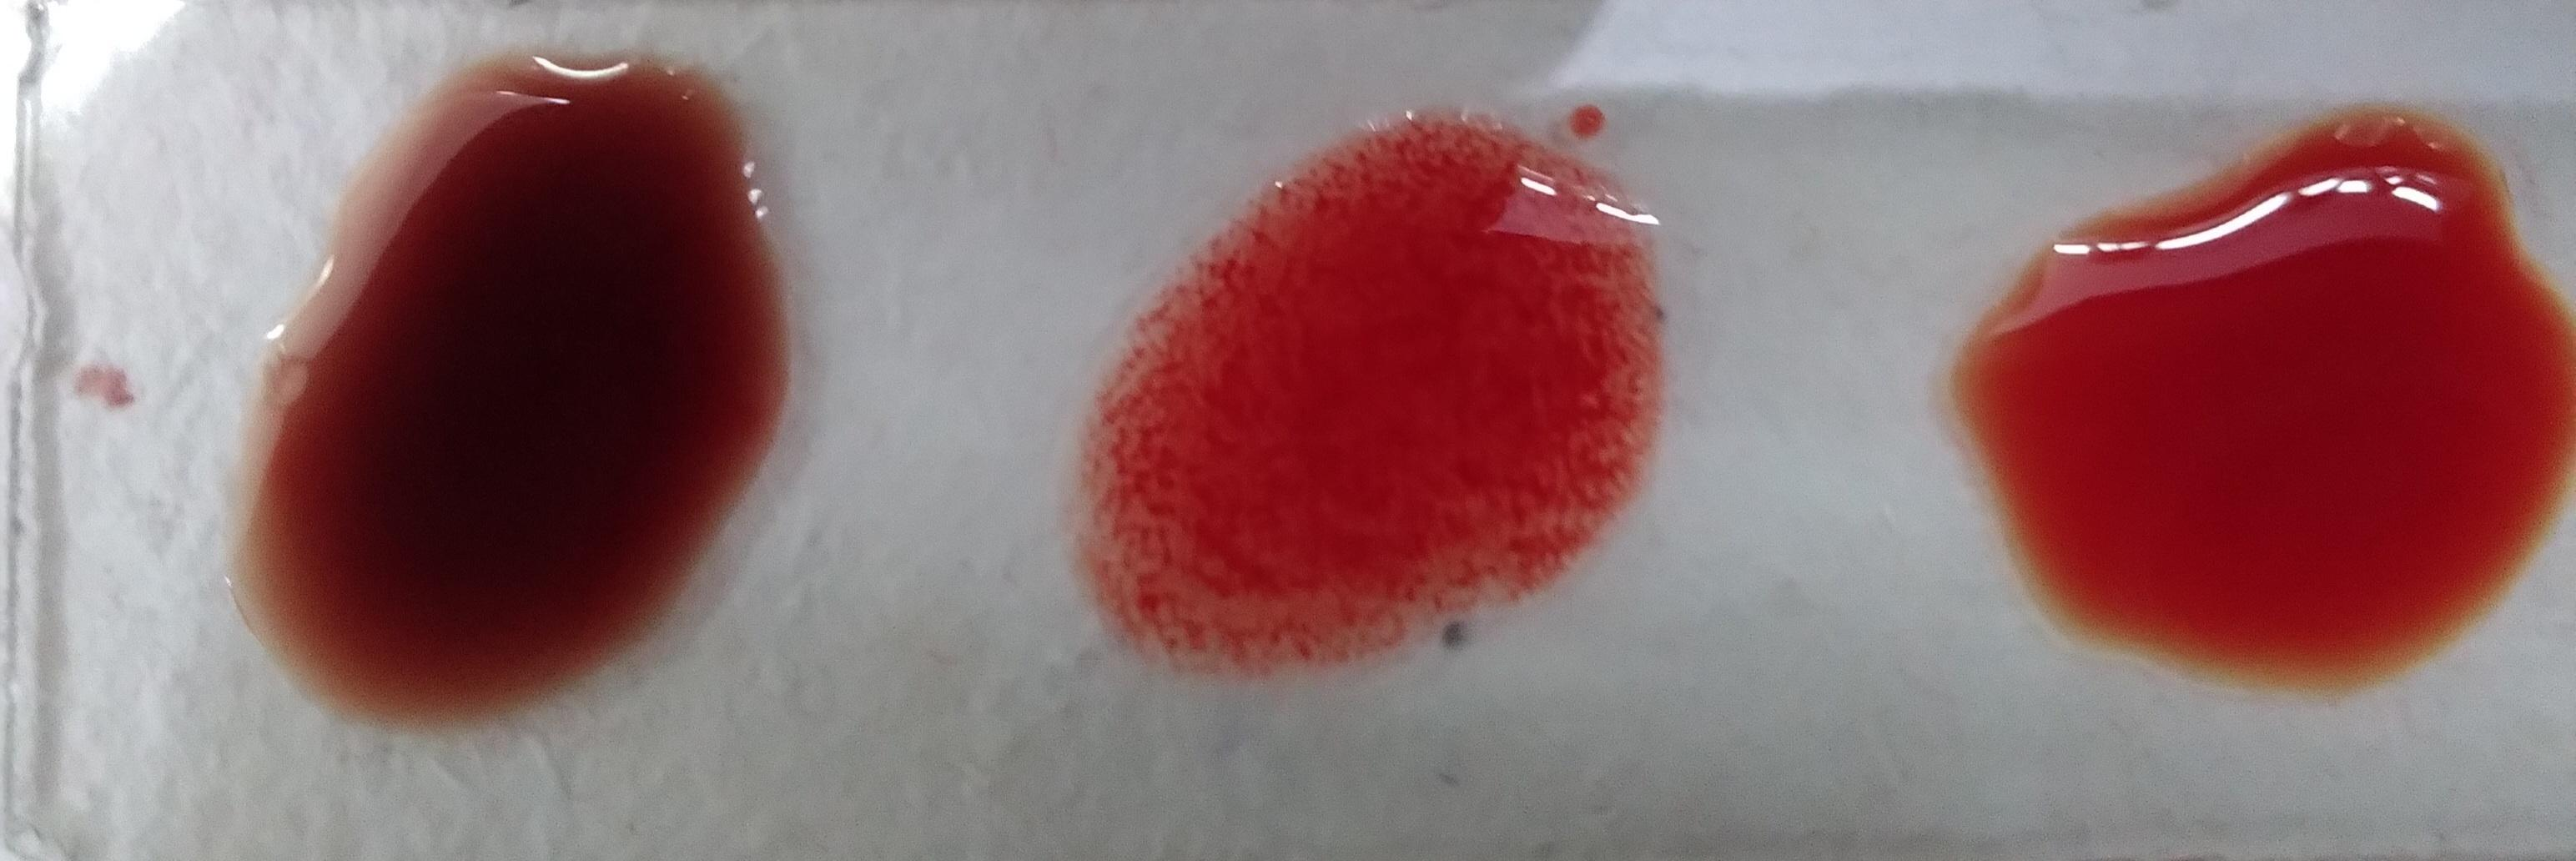D: (930, 187, 1503, 741)
